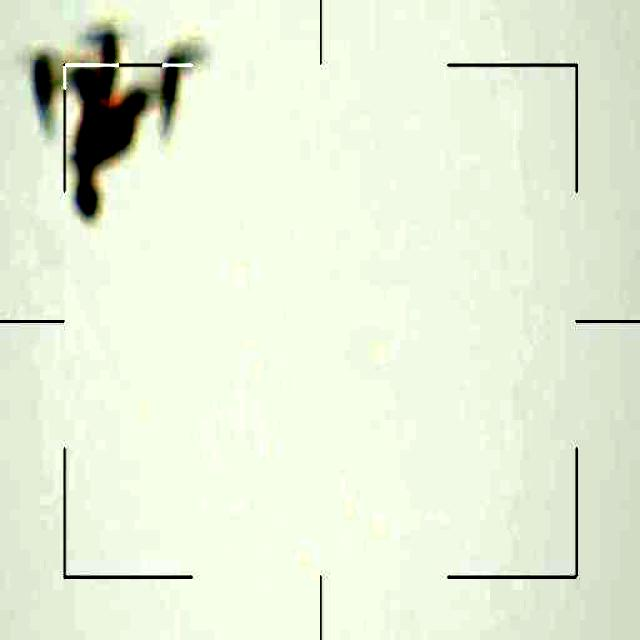bird: (26, 19, 209, 224)
